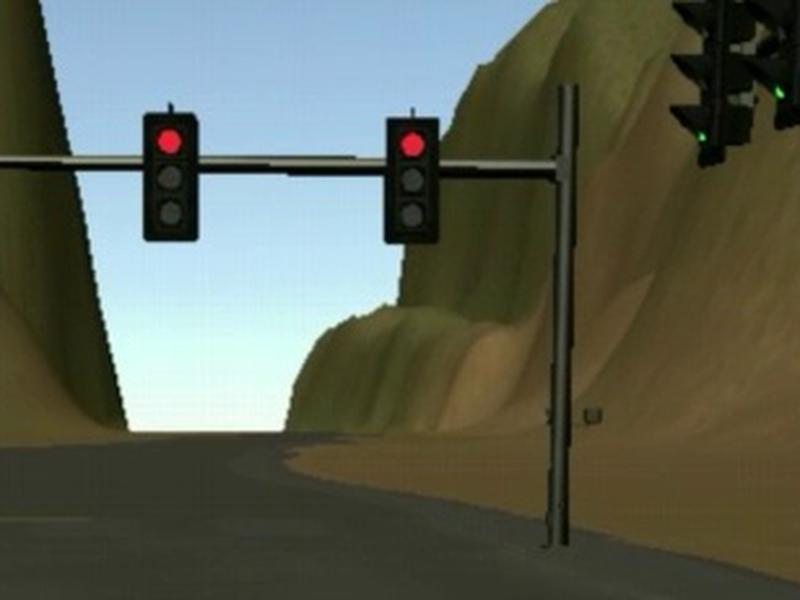Red: (382, 117, 439, 244), (143, 112, 199, 241)
